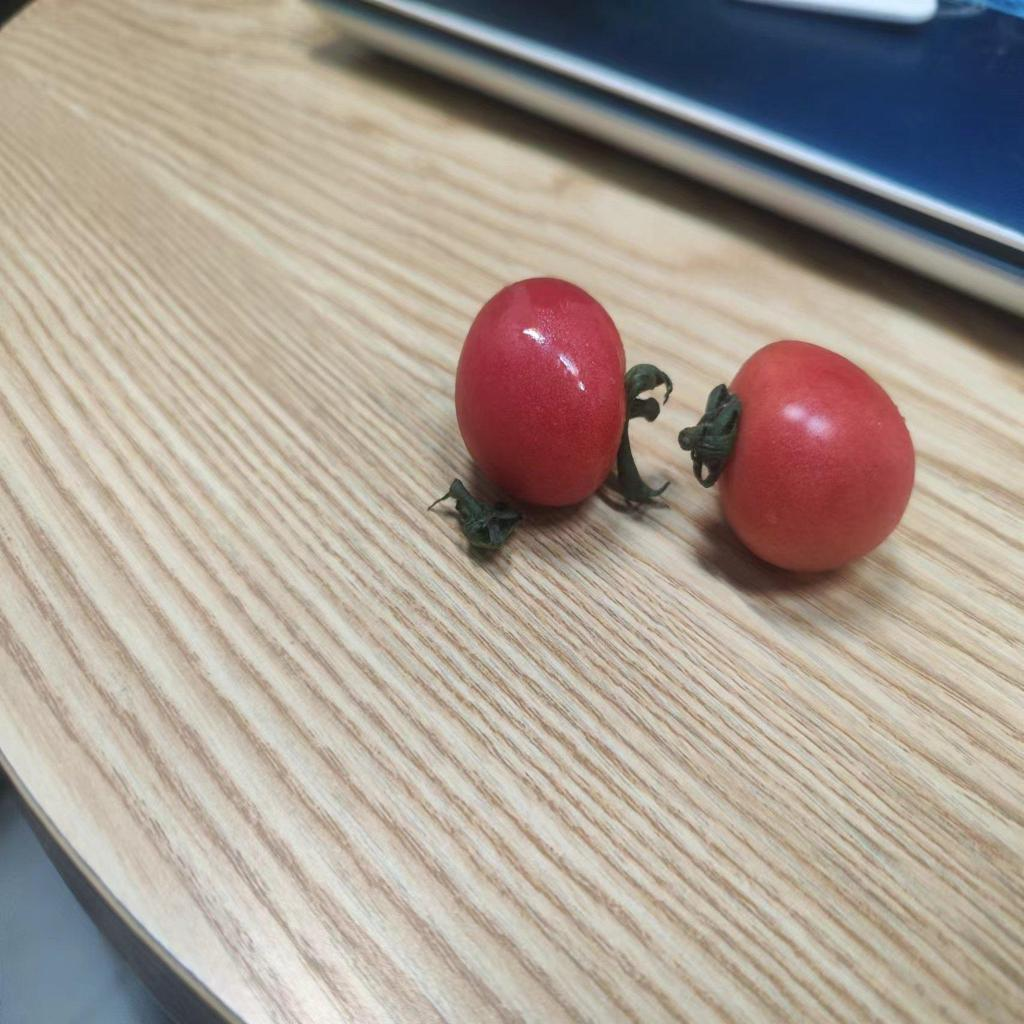tomato: (702, 337, 916, 572), (472, 282, 629, 512)
